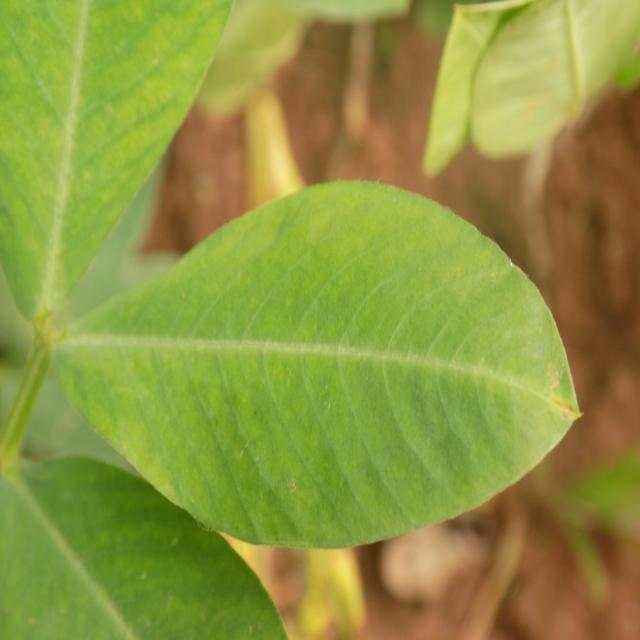Ground nut_healthy: (48, 174, 580, 552)
